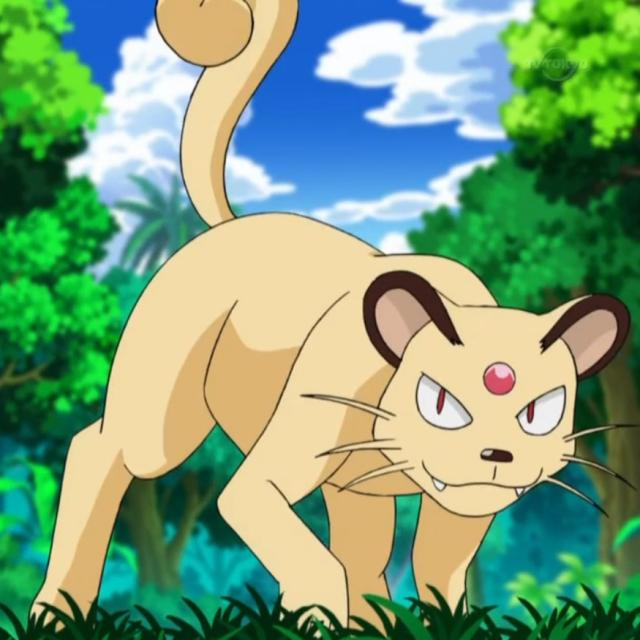Persian: (84, 194, 596, 606)
